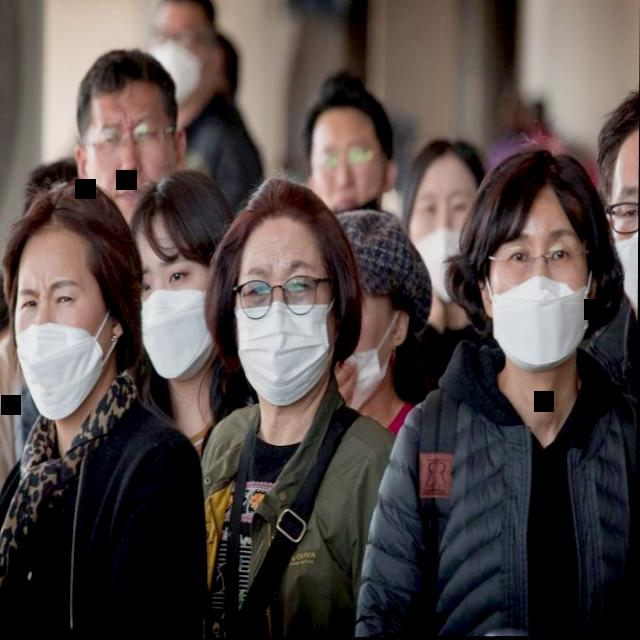Mask: (460, 139, 612, 378), (0, 180, 145, 425), (218, 177, 351, 413), (125, 165, 230, 391), (396, 131, 483, 315), (588, 55, 640, 336), (147, 0, 220, 107)
NO-Mask: (66, 42, 191, 227), (292, 67, 399, 221)
